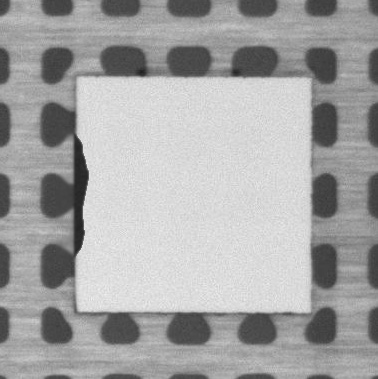DIE_BROKEN: (71, 132, 91, 259)
